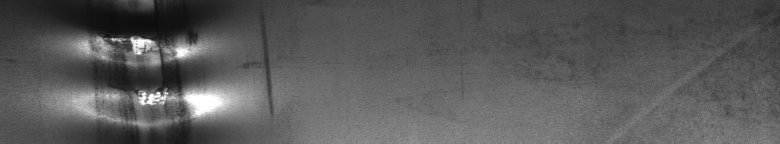ke: (84, 4, 204, 136)
